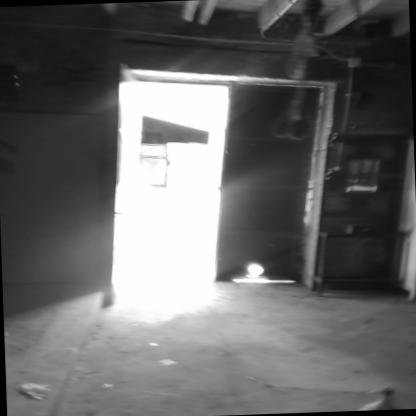open: (92, 39, 350, 316)
